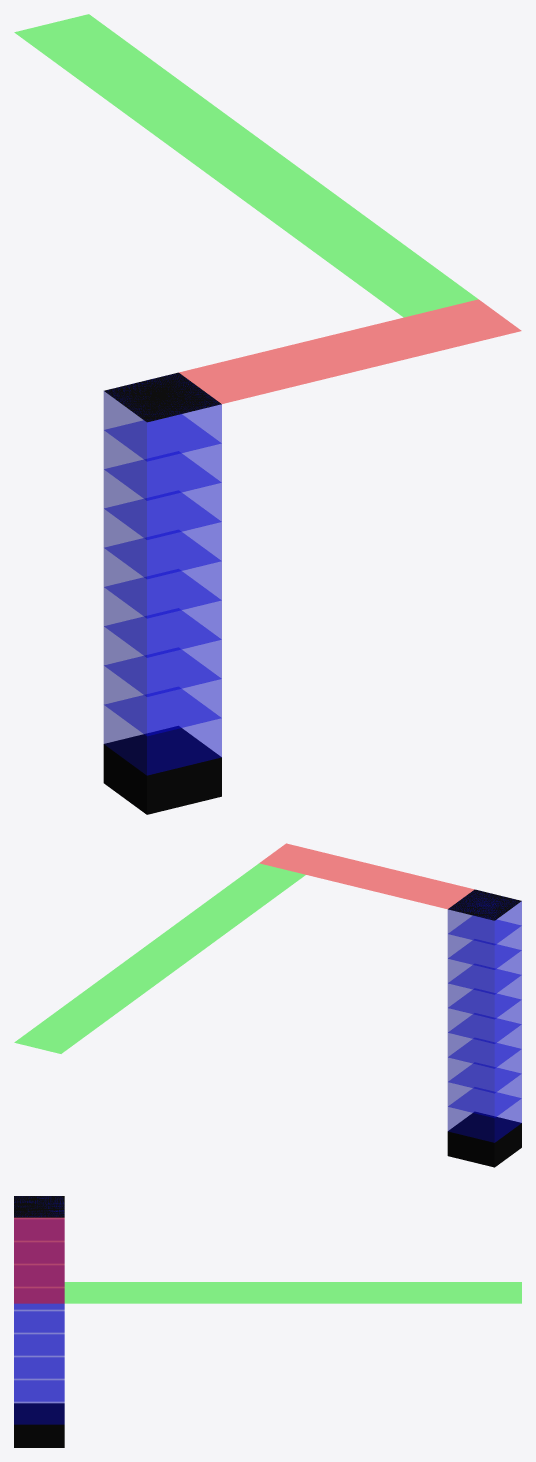
File: Elements_Spatial_CellComplex_Traversal.glb
3 views of the same model, one above another, from view 1: azimuth 30°, elevation 25°; view 2: azimuth 150°, elevation 25°; view 3: azimuth 270°, elevation 25° (orthographic). The views are drawn at different scales.
Parts seen in each view (by area): view 1: 812d42c8-84ea-4a03-8e7a-84dc744f5352_mesh, f3cefdb6-d9bf-4441-8bf6-a2c38f1191e0_mesh, bb4dd3f0-f621-4613-9e18-05620bdac268_mesh, 71274034-4911-490a-ac0e-6cd7dbc2586a_mesh, b4a8cc4a-6ab0-488c-8171-6861ae453591_mesh, 987a0e84-b47d-4a68-b240-db976fe1c28b_mesh, 6138fa0a-db52-4973-8616-c691b812e335_mesh, 11b93bd1-f482-4194-a7e3-afc7fbc3f379_mesh, f4b934fc-50e3-48b1-99b4-027b695dbb0a_mesh, dd289284-a809-412d-90a7-525121473dab_mesh, e40d210b-447e-4b2d-9d9f-fadcba0bb15e_mesh, d73d5ede-2250-4d0e-9325-47657691e685_mesh (+14 smaller); view 2: 6138fa0a-db52-4973-8616-c691b812e335_mesh, 71274034-4911-490a-ac0e-6cd7dbc2586a_mesh, 987a0e84-b47d-4a68-b240-db976fe1c28b_mesh, 812d42c8-84ea-4a03-8e7a-84dc744f5352_mesh, bb4dd3f0-f621-4613-9e18-05620bdac268_mesh, b4a8cc4a-6ab0-488c-8171-6861ae453591_mesh, f3cefdb6-d9bf-4441-8bf6-a2c38f1191e0_mesh, 11b93bd1-f482-4194-a7e3-afc7fbc3f379_mesh, f4b934fc-50e3-48b1-99b4-027b695dbb0a_mesh, dd289284-a809-412d-90a7-525121473dab_mesh, b9a17777-c3e1-4f89-b6b2-192d000aa0ed_mesh, 6609d206-2da9-4740-aaad-6a5a375c98f1_mesh (+14 smaller); view 3: 71274034-4911-490a-ac0e-6cd7dbc2586a_mesh, b4a8cc4a-6ab0-488c-8171-6861ae453591_mesh, 6138fa0a-db52-4973-8616-c691b812e335_mesh, 812d42c8-84ea-4a03-8e7a-84dc744f5352_mesh, f3cefdb6-d9bf-4441-8bf6-a2c38f1191e0_mesh, f4b934fc-50e3-48b1-99b4-027b695dbb0a_mesh, 5ce34819-e4b0-4391-ab0c-0335fa12e853_mesh, bb4dd3f0-f621-4613-9e18-05620bdac268_mesh, 987a0e84-b47d-4a68-b240-db976fe1c28b_mesh, 11b93bd1-f482-4194-a7e3-afc7fbc3f379_mesh, b9a17777-c3e1-4f89-b6b2-192d000aa0ed_mesh, e40d210b-447e-4b2d-9d9f-fadcba0bb15e_mesh (+13 smaller).
Boxes of the visible parts, <box> form: 812d42c8-84ea-4a03-8e7a-84dc744f5352_mesh: <box>103,571,221,657</box>; f3cefdb6-d9bf-4441-8bf6-a2c38f1191e0_mesh: <box>103,532,221,618</box>; bb4dd3f0-f621-4613-9e18-05620bdac268_mesh: <box>103,492,221,579</box>; 71274034-4911-490a-ac0e-6cd7dbc2586a_mesh: <box>103,689,221,775</box>; b4a8cc4a-6ab0-488c-8171-6861ae453591_mesh: <box>103,649,221,736</box>; 987a0e84-b47d-4a68-b240-db976fe1c28b_mesh: <box>103,453,221,539</box>; 6138fa0a-db52-4973-8616-c691b812e335_mesh: <box>103,610,221,696</box>; 11b93bd1-f482-4194-a7e3-afc7fbc3f379_mesh: <box>103,414,221,500</box>; f4b934fc-50e3-48b1-99b4-027b695dbb0a_mesh: <box>103,374,221,461</box>; dd289284-a809-412d-90a7-525121473dab_mesh: <box>104,372,221,422</box>; e40d210b-447e-4b2d-9d9f-fadcba0bb15e_mesh: <box>274,204,391,253</box>; d73d5ede-2250-4d0e-9325-47657691e685_mesh: <box>231,172,347,222</box>; 6138fa0a-db52-4973-8616-c691b812e335_mesh: <box>447,1039,521,1093</box>; 71274034-4911-490a-ac0e-6cd7dbc2586a_mesh: <box>447,1088,521,1142</box>; 987a0e84-b47d-4a68-b240-db976fe1c28b_mesh: <box>447,940,521,994</box>; 812d42c8-84ea-4a03-8e7a-84dc744f5352_mesh: <box>447,1014,521,1068</box>; bb4dd3f0-f621-4613-9e18-05620bdac268_mesh: <box>447,965,521,1019</box>; b4a8cc4a-6ab0-488c-8171-6861ae453591_mesh: <box>447,1063,521,1117</box>; f3cefdb6-d9bf-4441-8bf6-a2c38f1191e0_mesh: <box>447,989,521,1043</box>; 11b93bd1-f482-4194-a7e3-afc7fbc3f379_mesh: <box>447,916,521,969</box>; f4b934fc-50e3-48b1-99b4-027b695dbb0a_mesh: <box>447,891,521,945</box>; dd289284-a809-412d-90a7-525121473dab_mesh: <box>448,889,521,920</box>; b9a17777-c3e1-4f89-b6b2-192d000aa0ed_mesh: <box>232,863,305,894</box>; 6609d206-2da9-4740-aaad-6a5a375c98f1_mesh: <box>259,843,332,874</box>; 71274034-4911-490a-ac0e-6cd7dbc2586a_mesh: <box>14,1380,64,1424</box>; b4a8cc4a-6ab0-488c-8171-6861ae453591_mesh: <box>14,1357,64,1401</box>; 6138fa0a-db52-4973-8616-c691b812e335_mesh: <box>14,1334,64,1378</box>; 812d42c8-84ea-4a03-8e7a-84dc744f5352_mesh: <box>14,1311,64,1355</box>; f3cefdb6-d9bf-4441-8bf6-a2c38f1191e0_mesh: <box>14,1303,64,1332</box>; f4b934fc-50e3-48b1-99b4-027b695dbb0a_mesh: <box>14,1196,64,1240</box>; 5ce34819-e4b0-4391-ab0c-0335fa12e853_mesh: <box>14,1424,64,1447</box>; bb4dd3f0-f621-4613-9e18-05620bdac268_mesh: <box>14,1286,64,1309</box>; 987a0e84-b47d-4a68-b240-db976fe1c28b_mesh: <box>14,1263,64,1286</box>; 11b93bd1-f482-4194-a7e3-afc7fbc3f379_mesh: <box>14,1240,64,1263</box>; b9a17777-c3e1-4f89-b6b2-192d000aa0ed_mesh: <box>64,1282,115,1303</box>; e40d210b-447e-4b2d-9d9f-fadcba0bb15e_mesh: <box>166,1282,217,1303</box>.
Bounding box in the file's own units: 50 × 50 × 100.
